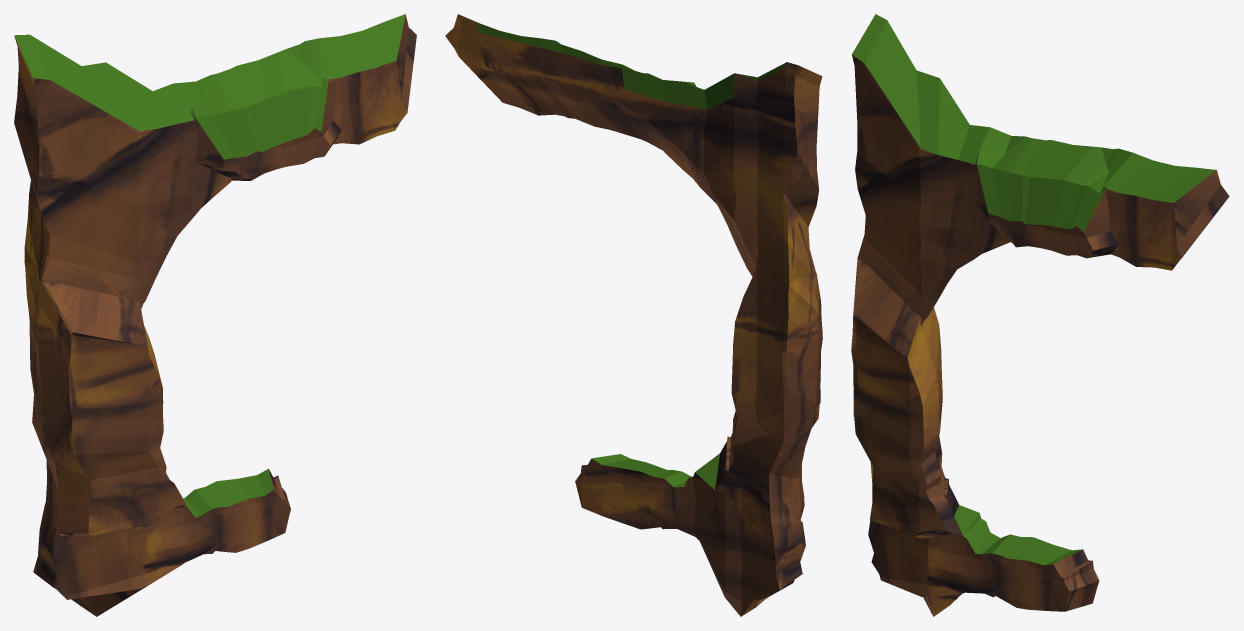
File: sali74.obj
The picture shows the model from 3 angles, left to right: view 1: azimuth 30°, elevation 25°; view 2: azimuth 150°, elevation 25°; view 3: azimuth 330°, elevation 25°; orthographic projection. The views are drawn at different scales.
Visible parts, largest first — view 1: Plane.036_Plane.039; view 2: Plane.036_Plane.039; view 3: Plane.036_Plane.039.
Boxes of the visible parts, x1=… form: Plane.036_Plane.039: x1=14, y1=14, x2=416, y2=616; Plane.036_Plane.039: x1=445, y1=14, x2=822, y2=616; Plane.036_Plane.039: x1=851, y1=14, x2=1229, y2=616.
Size of the model in its own units: 266 by 389 by 61.15.
Materials: 1 (1 with a texture image).
